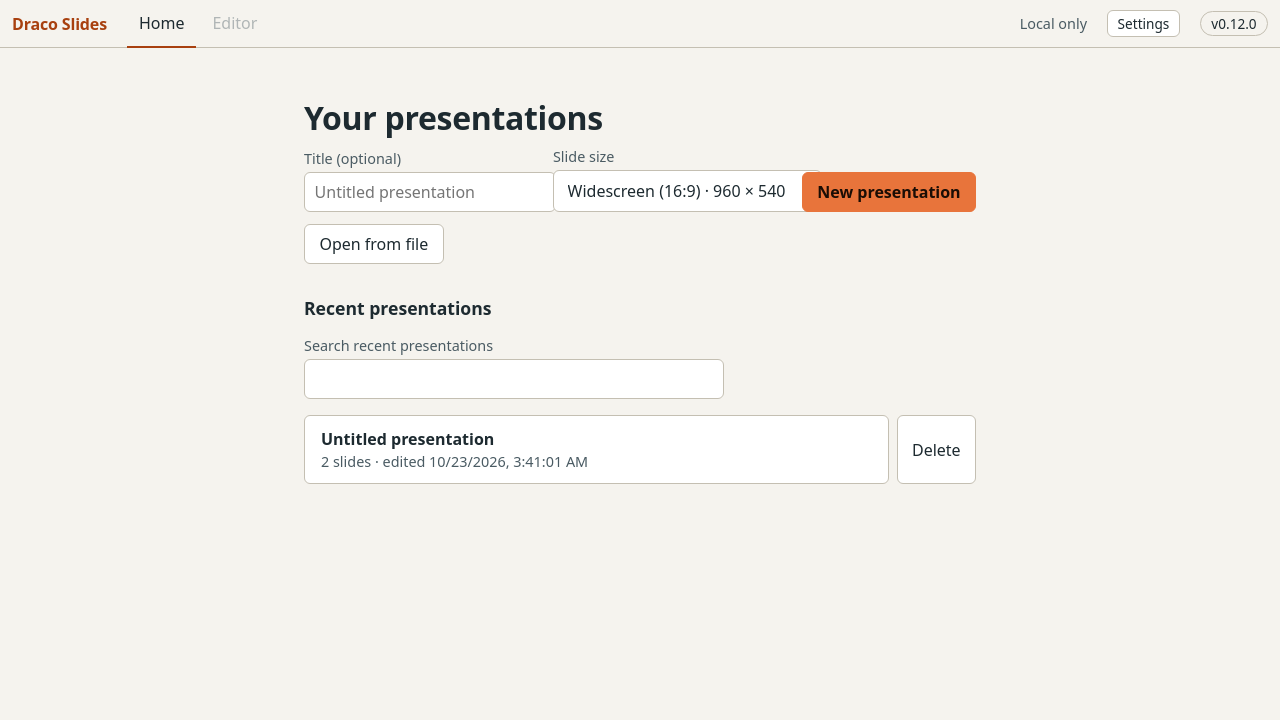
it: Slide management UI › renames a slide through the dialog and returns focus to the button
Click the button "New presentation" at [889, 192], box [802,172,976,212]
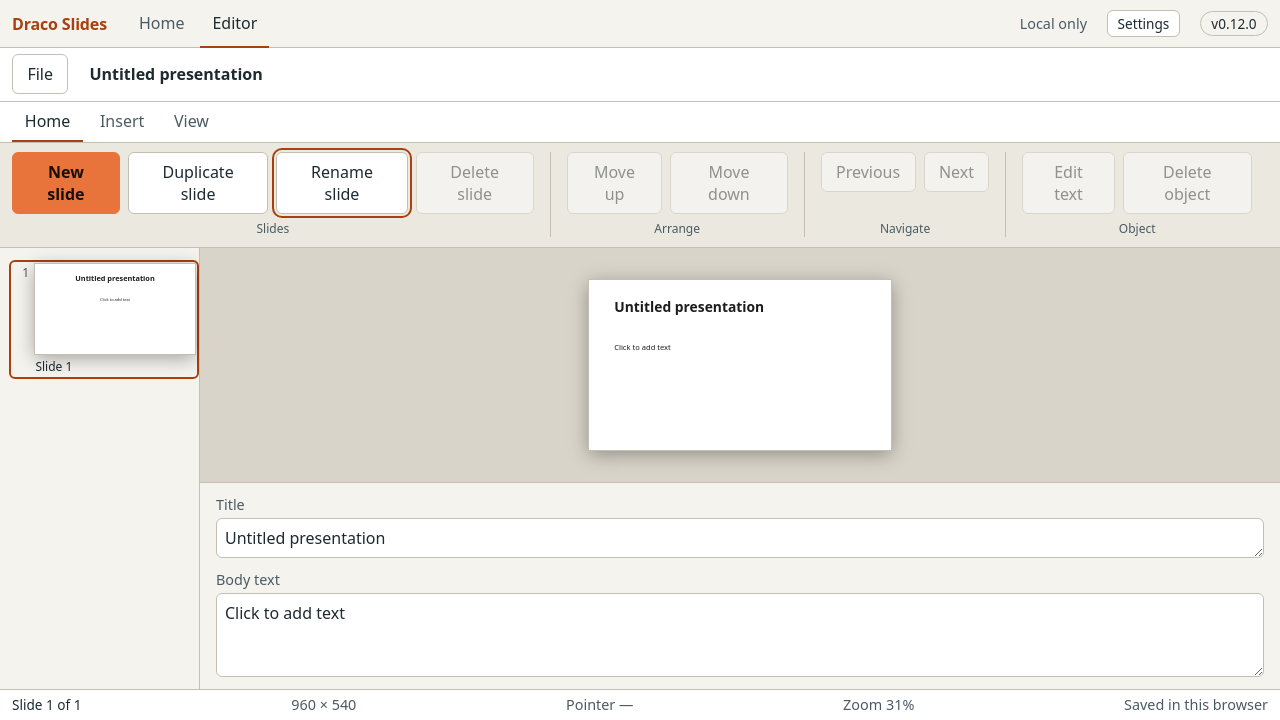
Click the button "Rename slide" at [342, 183], box [276,152,408,214]
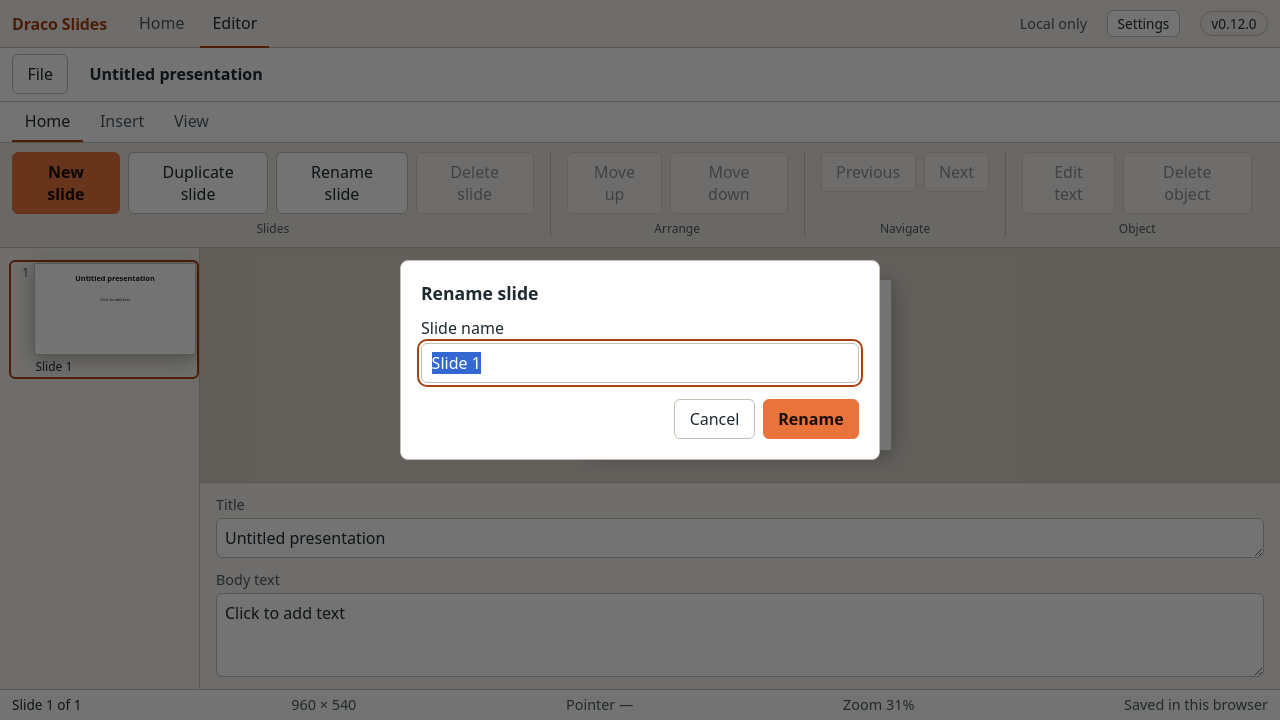
Replace the text in the field labelled "Slide name" with "Intro" at [640, 363], box [421,343,859,383]
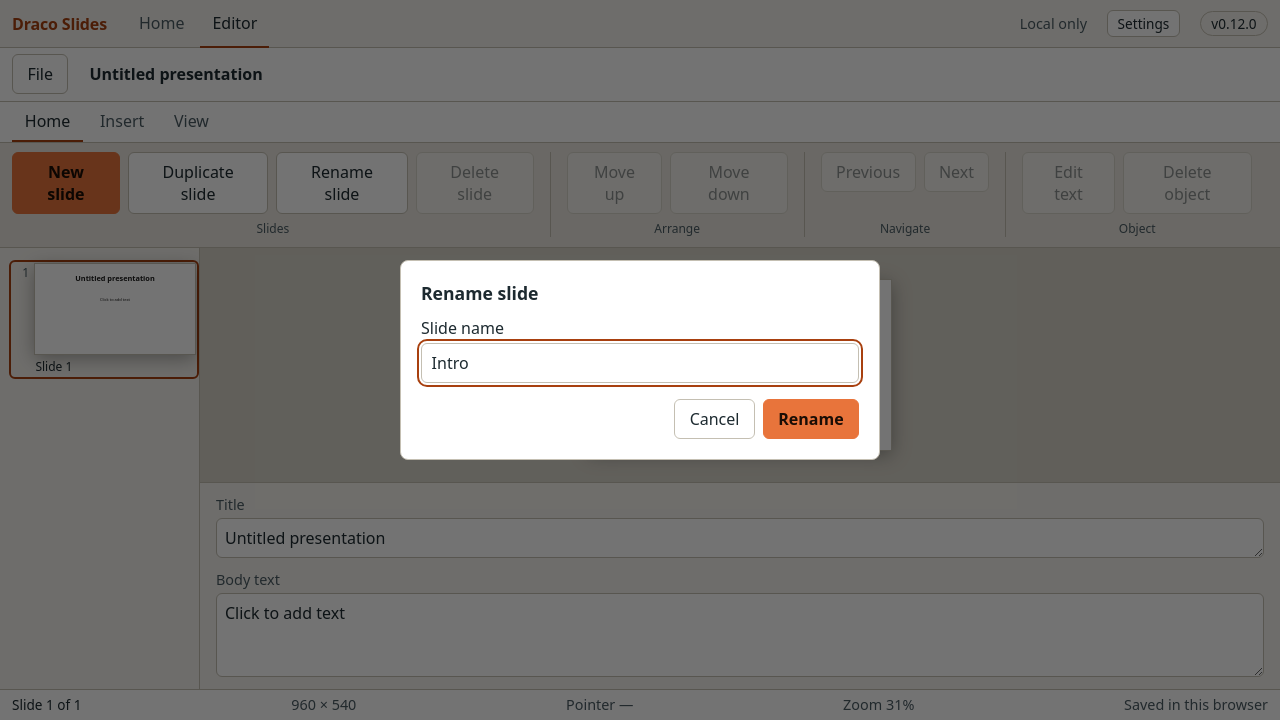
Click the button "Rename" at [811, 419], box [763,399,859,439]
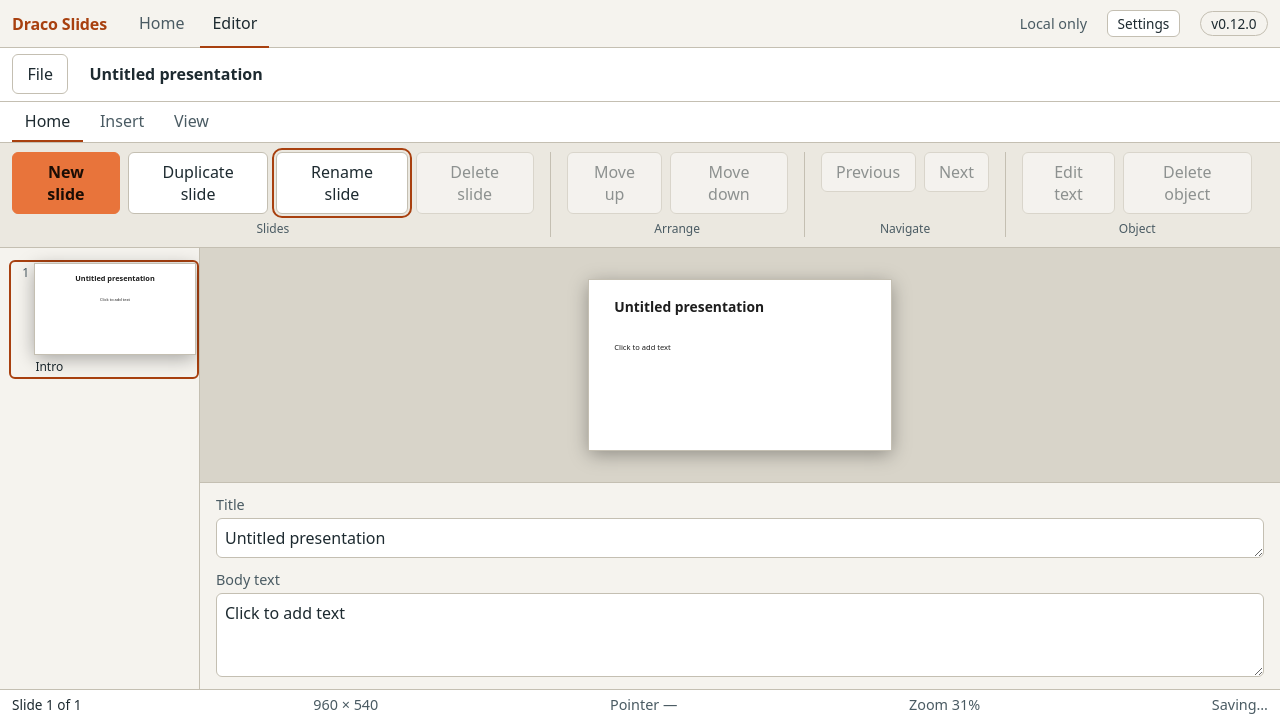
Result: the dialog is gone
